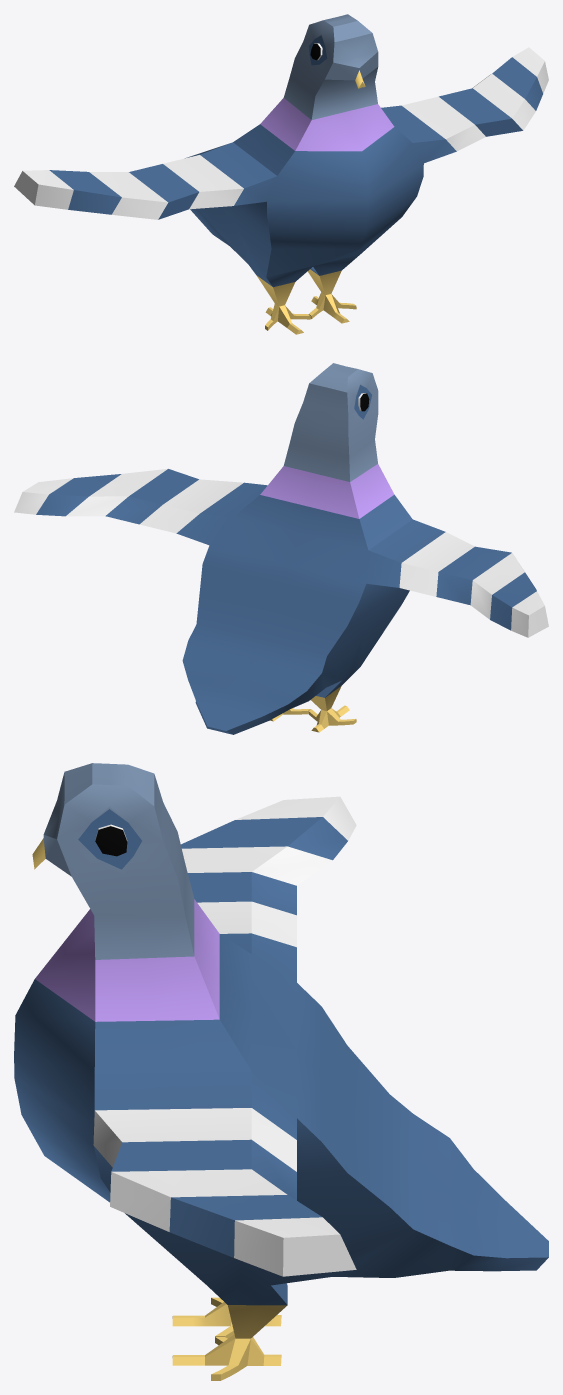
File: Unwrapped_Pigeon.fbx
The picture shows the model from 3 angles, top to bottom: view 1: azimuth 30°, elevation 25°; view 2: azimuth 150°, elevation 25°; view 3: azimuth 270°, elevation 25°; orthographic projection. The views are drawn at different scales.
Parts seen in each view (by area): view 1: Pigeon_body; view 2: Pigeon_body; view 3: Pigeon_body.
Part boxes in pixels (bbox=[...]): Pigeon_body: bbox=[14, 14, 548, 334]; Pigeon_body: bbox=[14, 363, 548, 734]; Pigeon_body: bbox=[14, 763, 548, 1380].
Size of the model in its own units: 4.94 by 2.95 by 2.51.
